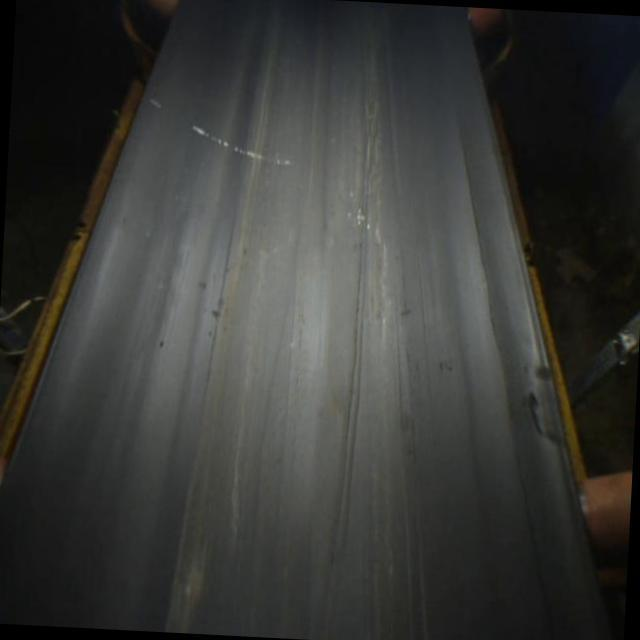Tear: (322, 245, 380, 562), (448, 109, 512, 380), (509, 470, 566, 636)
